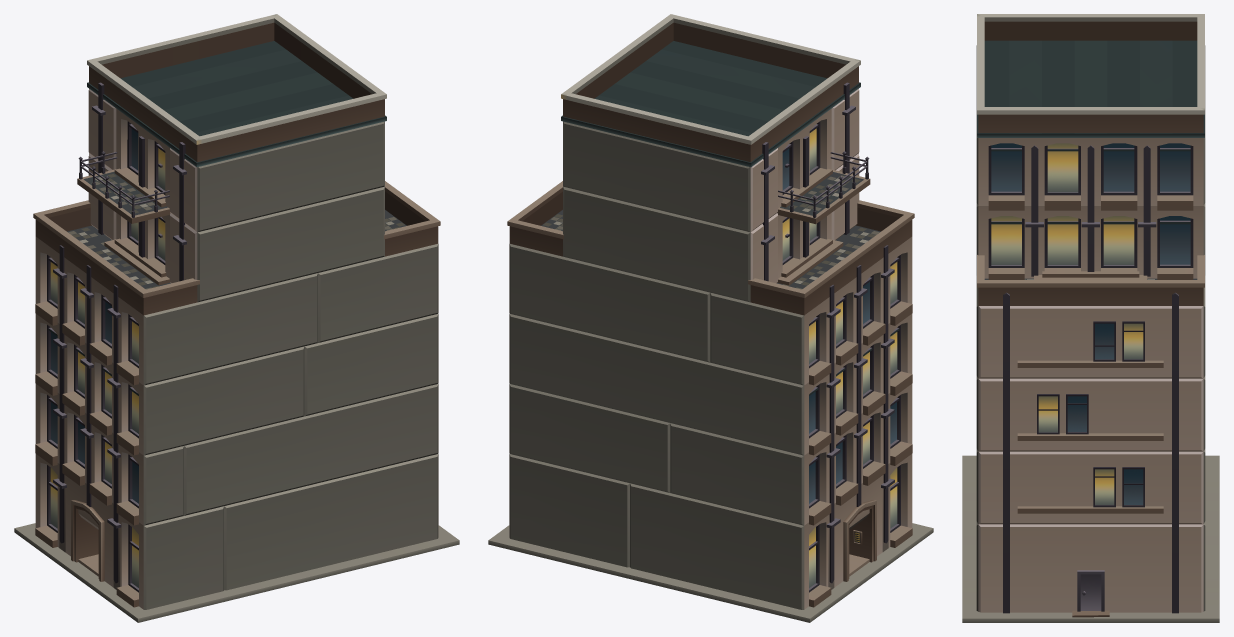
File: Building_19C.fbx
3 renders of one model, left to right at view 1: azimuth 30°, elevation 25°; view 2: azimuth 150°, elevation 25°; view 3: azimuth 270°, elevation 25°, orthographic. The views are drawn at different scales.
Visible parts, largest first — view 1: Building_19C, Window_Lights_19C; view 2: Building_19C, Window_Lights_19C; view 3: Building_19C, Window_Lights_19C.
Part boxes in pixels (x1,y1,x2,y2): Building_19C: (14, 14, 459, 622); Window_Lights_19C: (50, 144, 165, 587); Building_19C: (488, 14, 933, 622); Window_Lights_19C: (782, 124, 897, 587); Building_19C: (962, 14, 1219, 622); Window_Lights_19C: (991, 143, 1143, 504).
Size of the model in its own units: 2400 by 3290 by 1600.
